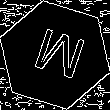M_S: (24, 24, 86, 86)
